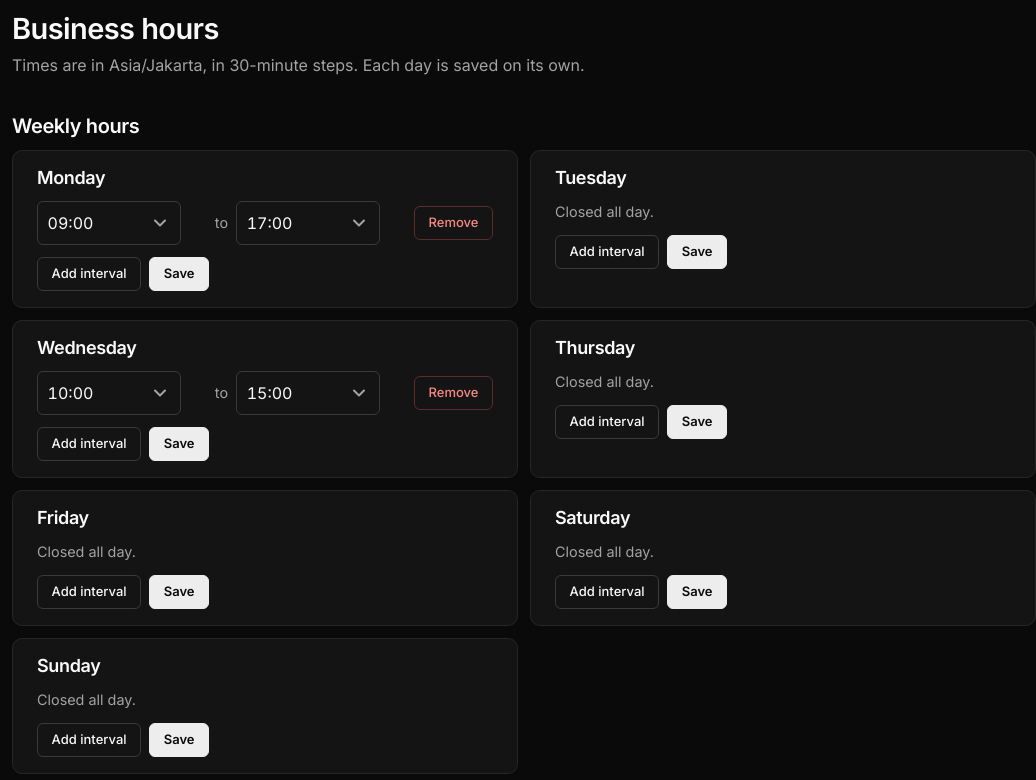
BusinessHoursPage › saves one day, uses the PUT response and does not refetch
The width and height of the screenshot is (1036, 780).
Select "18:00" in the dropdown named "Monday interval 1 closes": (308, 223) x1=236 y1=201 x2=380 y2=245
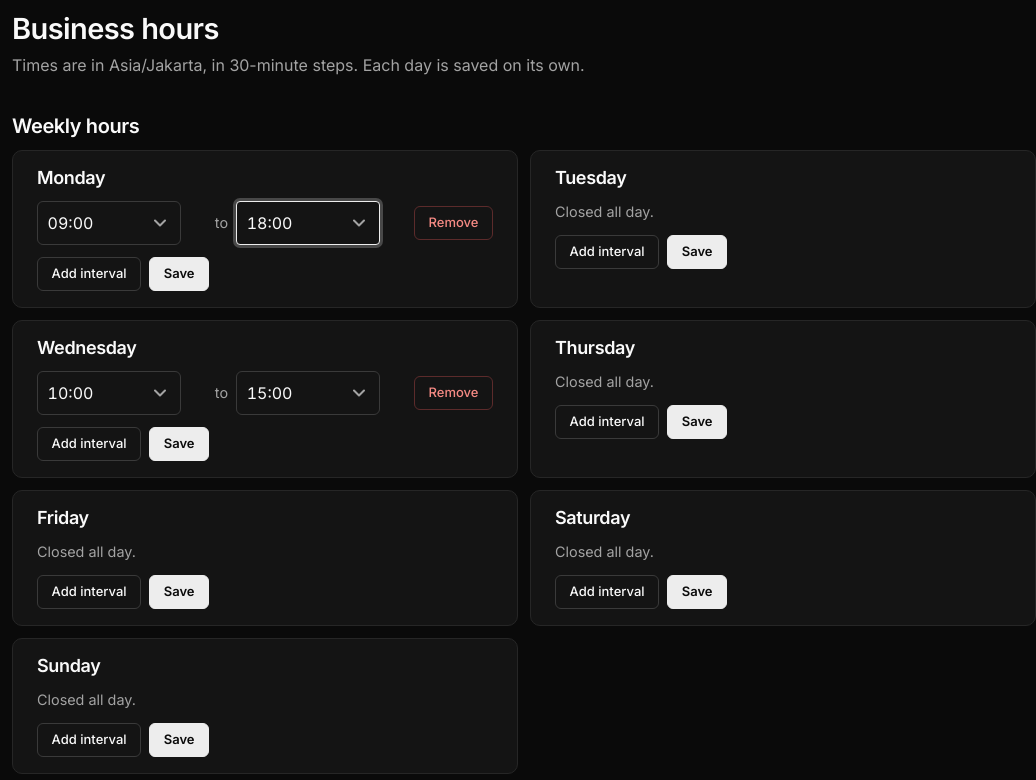
Click the button named "Save Monday hours": click(179, 274) x1=149 y1=257 x2=209 y2=291
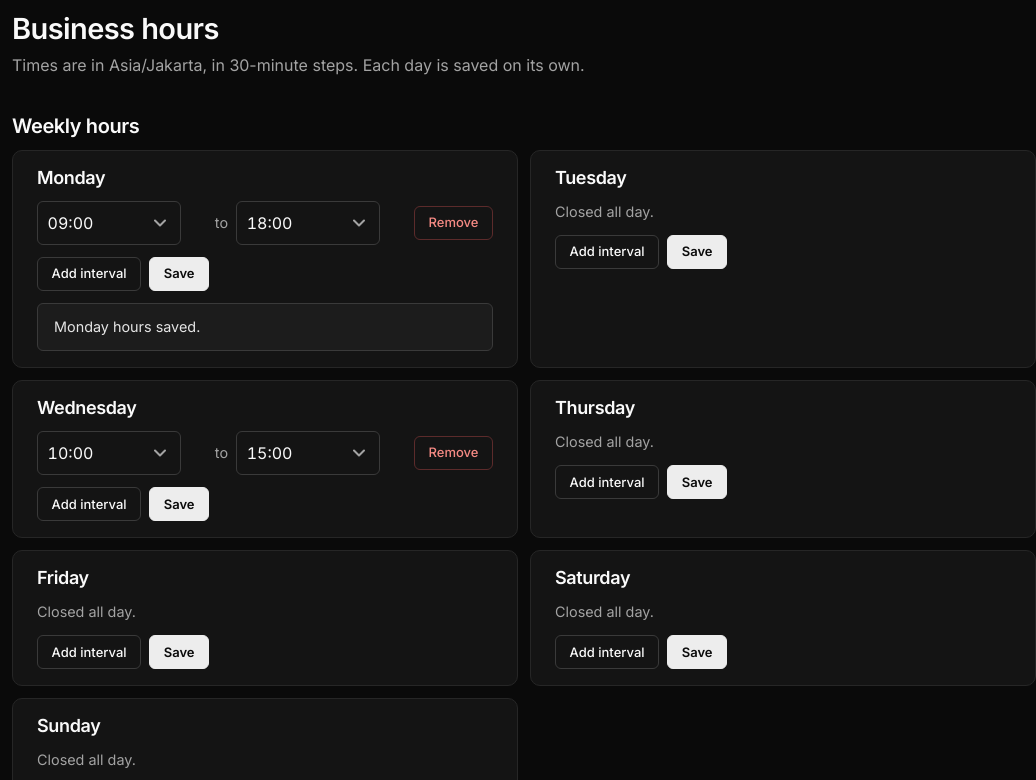
Result: the text "Monday hours saved." is shown at x1=37 y1=303 x2=493 y2=351
# The editor now compares against the saved hours, so saving again is a no-op.
Click the button named "Save Monday hours": click(179, 274) x1=149 y1=257 x2=209 y2=291
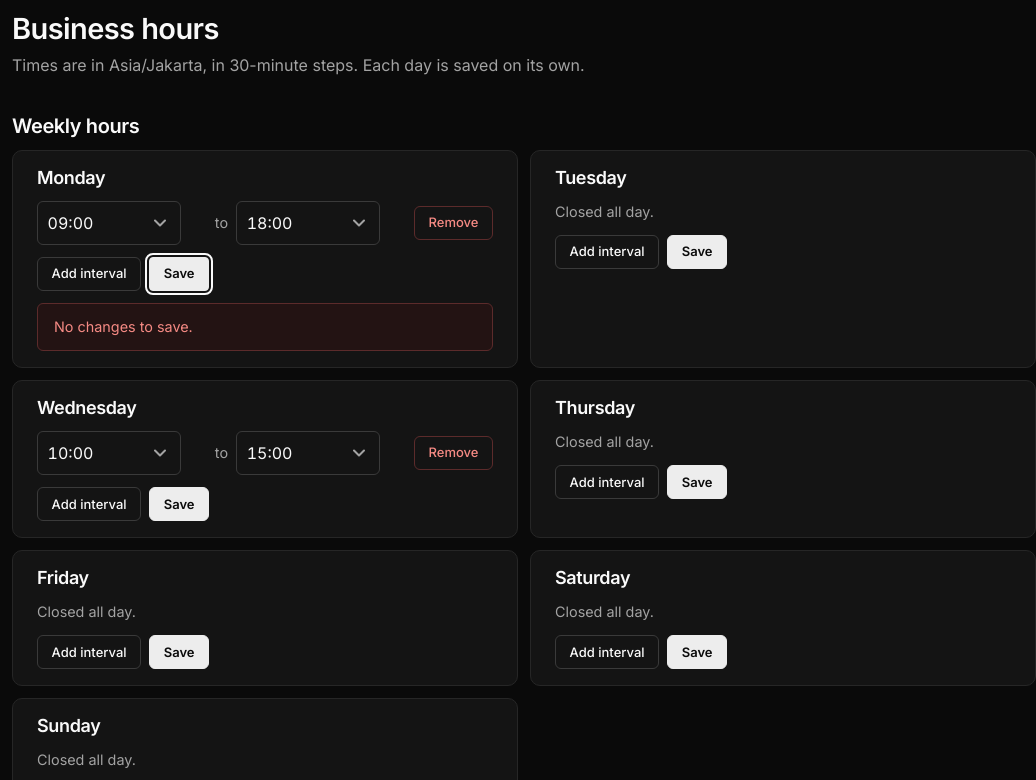
Result: the message reads "No changes to save." at x1=54 y1=318 x2=193 y2=335
